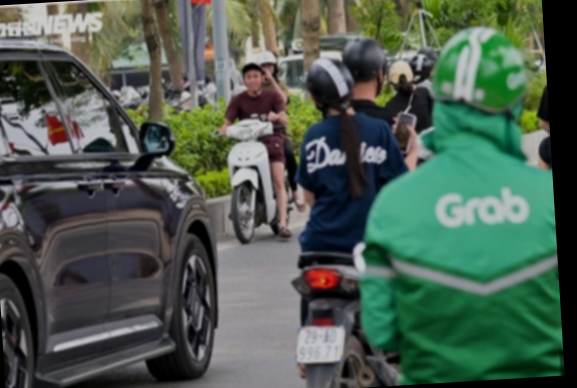Bien-so: (318, 303, 378, 350)
